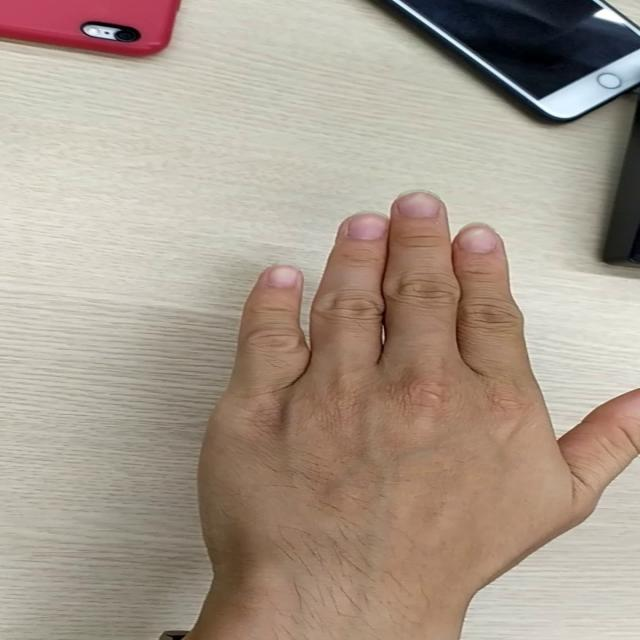hand: (234, 188, 628, 601)
